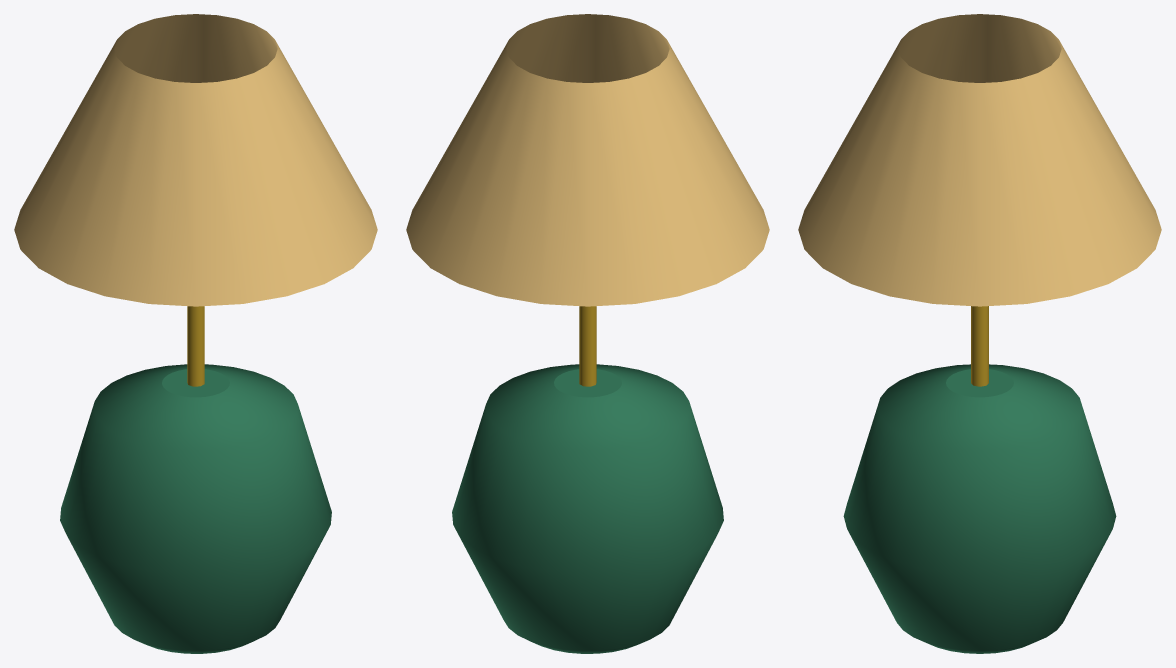
The model's file is FET-TLP-std.glb.
3 views of the same model, side by side, from view 1: azimuth 30°, elevation 25°; view 2: azimuth 150°, elevation 25°; view 3: azimuth 270°, elevation 25° (orthographic).
Parts seen in each view (by area): view 1: FET-TLP-std; view 2: FET-TLP-std; view 3: FET-TLP-std.
Part boxes in pixels (<box>): FET-TLP-std: <box>14,14,377,653</box>; FET-TLP-std: <box>406,14,769,653</box>; FET-TLP-std: <box>798,14,1161,653</box>.
Bounding box in the file's own units: 0.32 × 0.56 × 0.32.
